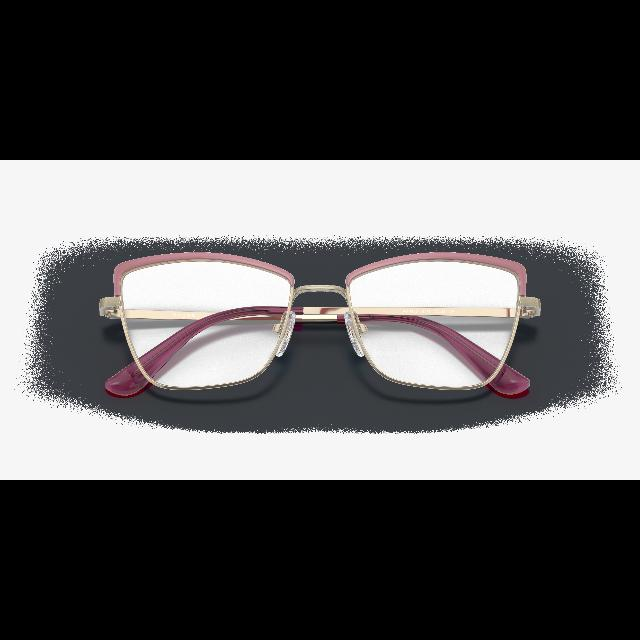glasses: (94, 247, 546, 403)
